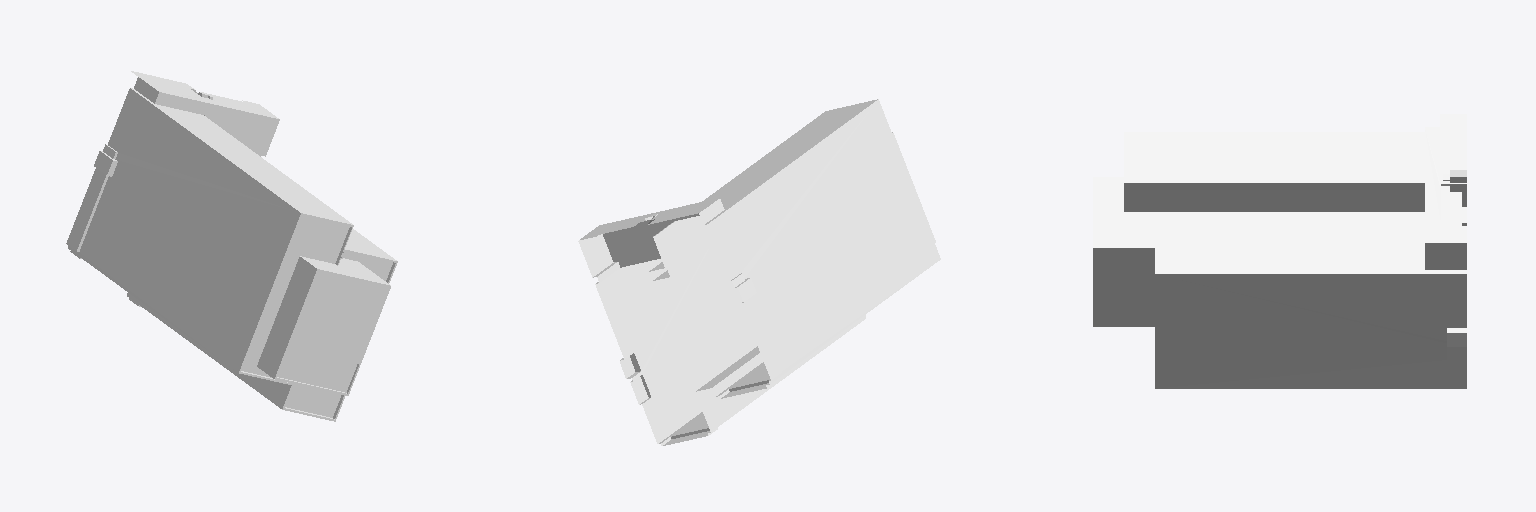
Rendered from BOS-078BO-0RXQ7-3YVRN.obj.
3 renders of one model, left to right at view 1: azimuth 30°, elevation 25°; view 2: azimuth 150°, elevation 25°; view 3: azimuth 270°, elevation 25°, orthographic.
Bounding box in the file's own units: 259 × 322 × 435.